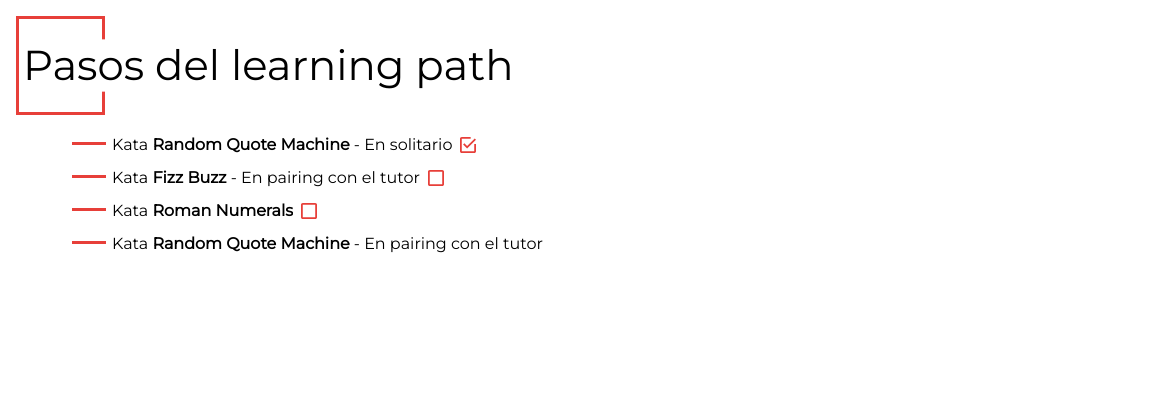
it: listado de pasos › muestra el detalle de una kata
The image size is (1165, 410).
Click the button "Kata Random Quote Machine - En solitario".
click(278, 145)  # box 104,134 -> 452,156
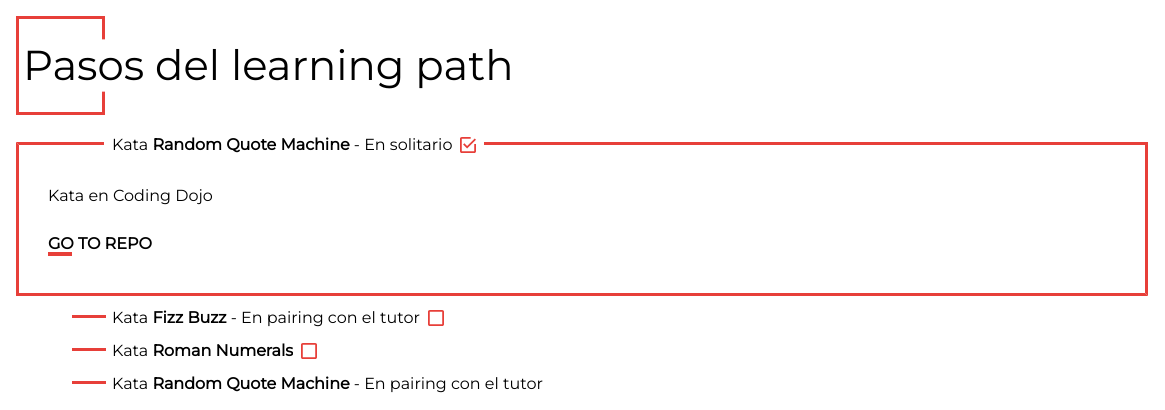
Check: the text "Kata en Coding Dojo" is shown, box 48,186 -> 213,205
Check: the link "GO TO REPO" is shown, box 48,234 -> 152,253
